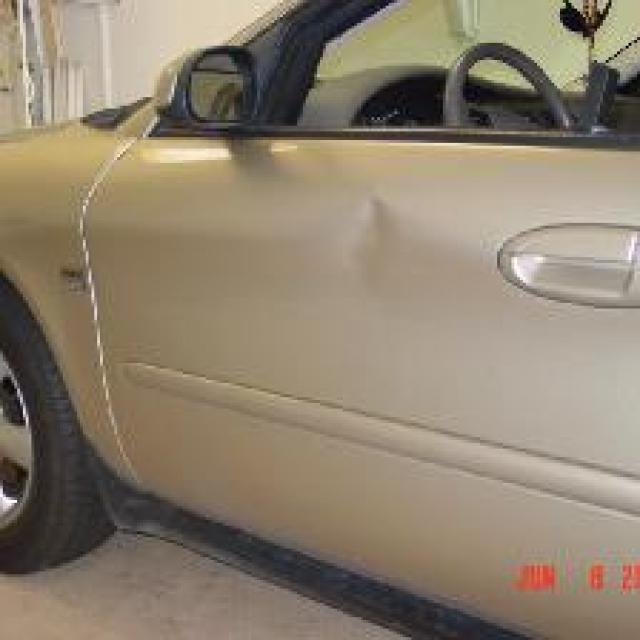damaged: (332, 191, 439, 306)
